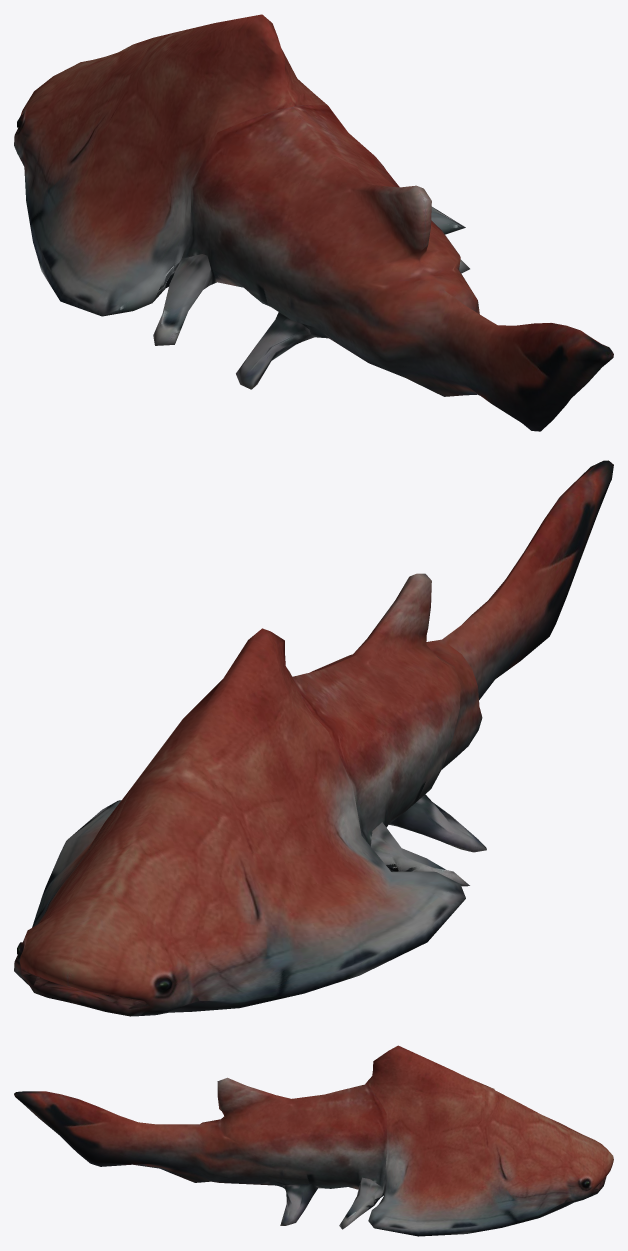
File: groenlandaspis.glb
3 renders of one model, top to bottom at view 1: azimuth 30°, elevation 25°; view 2: azimuth 150°, elevation 25°; view 3: azimuth 270°, elevation 25°, orthographic. The views are drawn at different scales.
Parts seen in each view (by area): view 1: Object_4; view 2: Object_4; view 3: Object_4.
Part boxes in pixels (bbox=[...]): Object_4: bbox=[14, 14, 613, 431]; Object_4: bbox=[14, 460, 613, 1016]; Object_4: bbox=[14, 1045, 613, 1236].
Size of the model in its own units: 0.7816 by 0.5528 by 2.
1 material, 1 textured.
